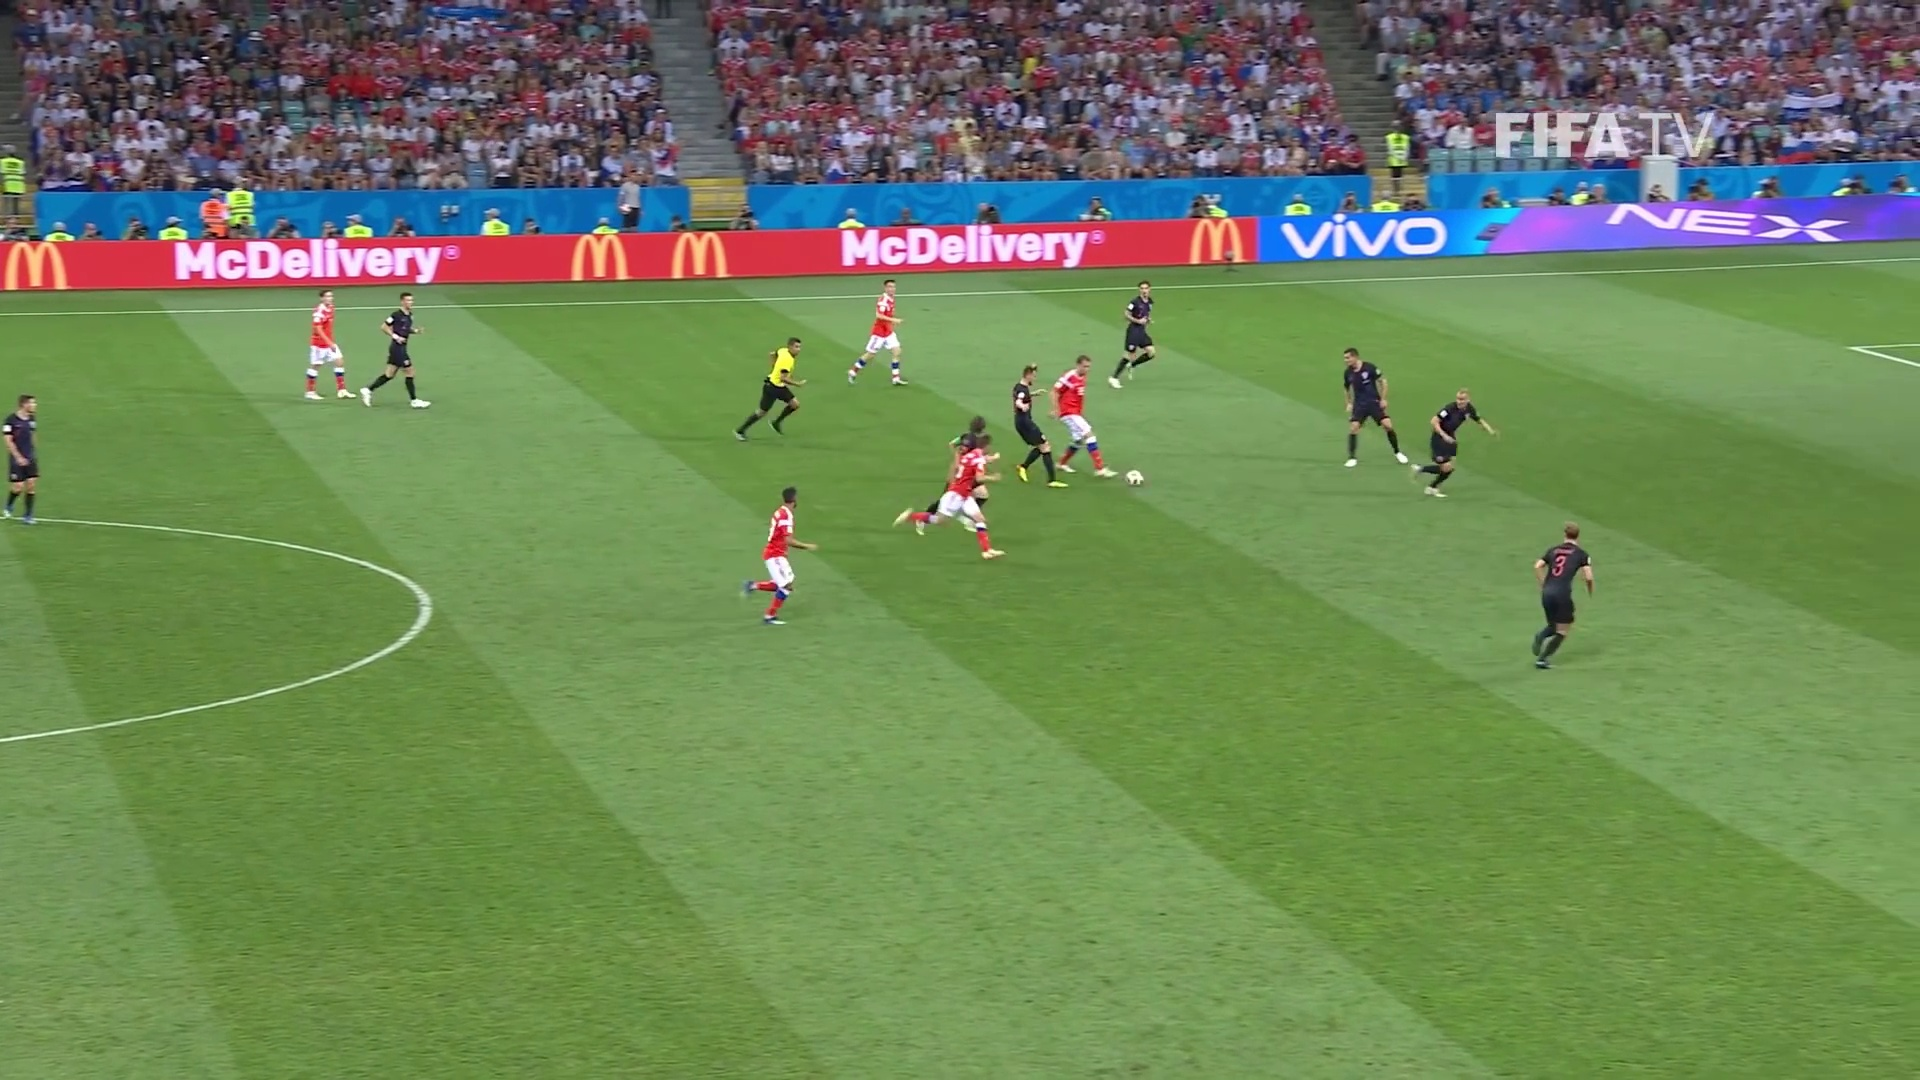ball: (1126, 469, 1143, 486)
person: (898, 415, 1006, 559), (1533, 520, 1594, 672), (1411, 386, 1493, 496), (363, 292, 430, 410), (1338, 347, 1406, 466), (844, 274, 914, 388), (1051, 354, 1114, 478), (752, 488, 803, 627), (1016, 365, 1067, 488), (301, 288, 350, 402), (1111, 278, 1158, 390), (1, 388, 36, 525)
